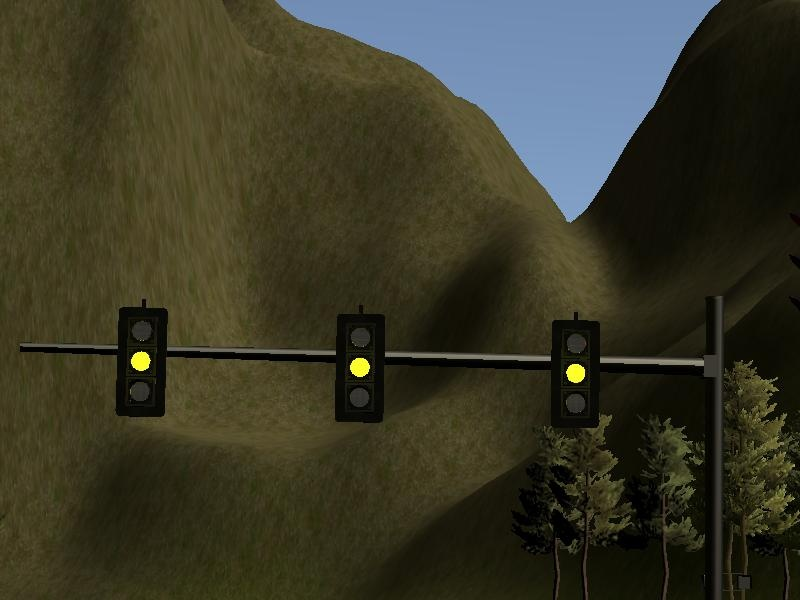YELLOW: (112, 299, 169, 417), (330, 306, 387, 424), (546, 316, 603, 434)
